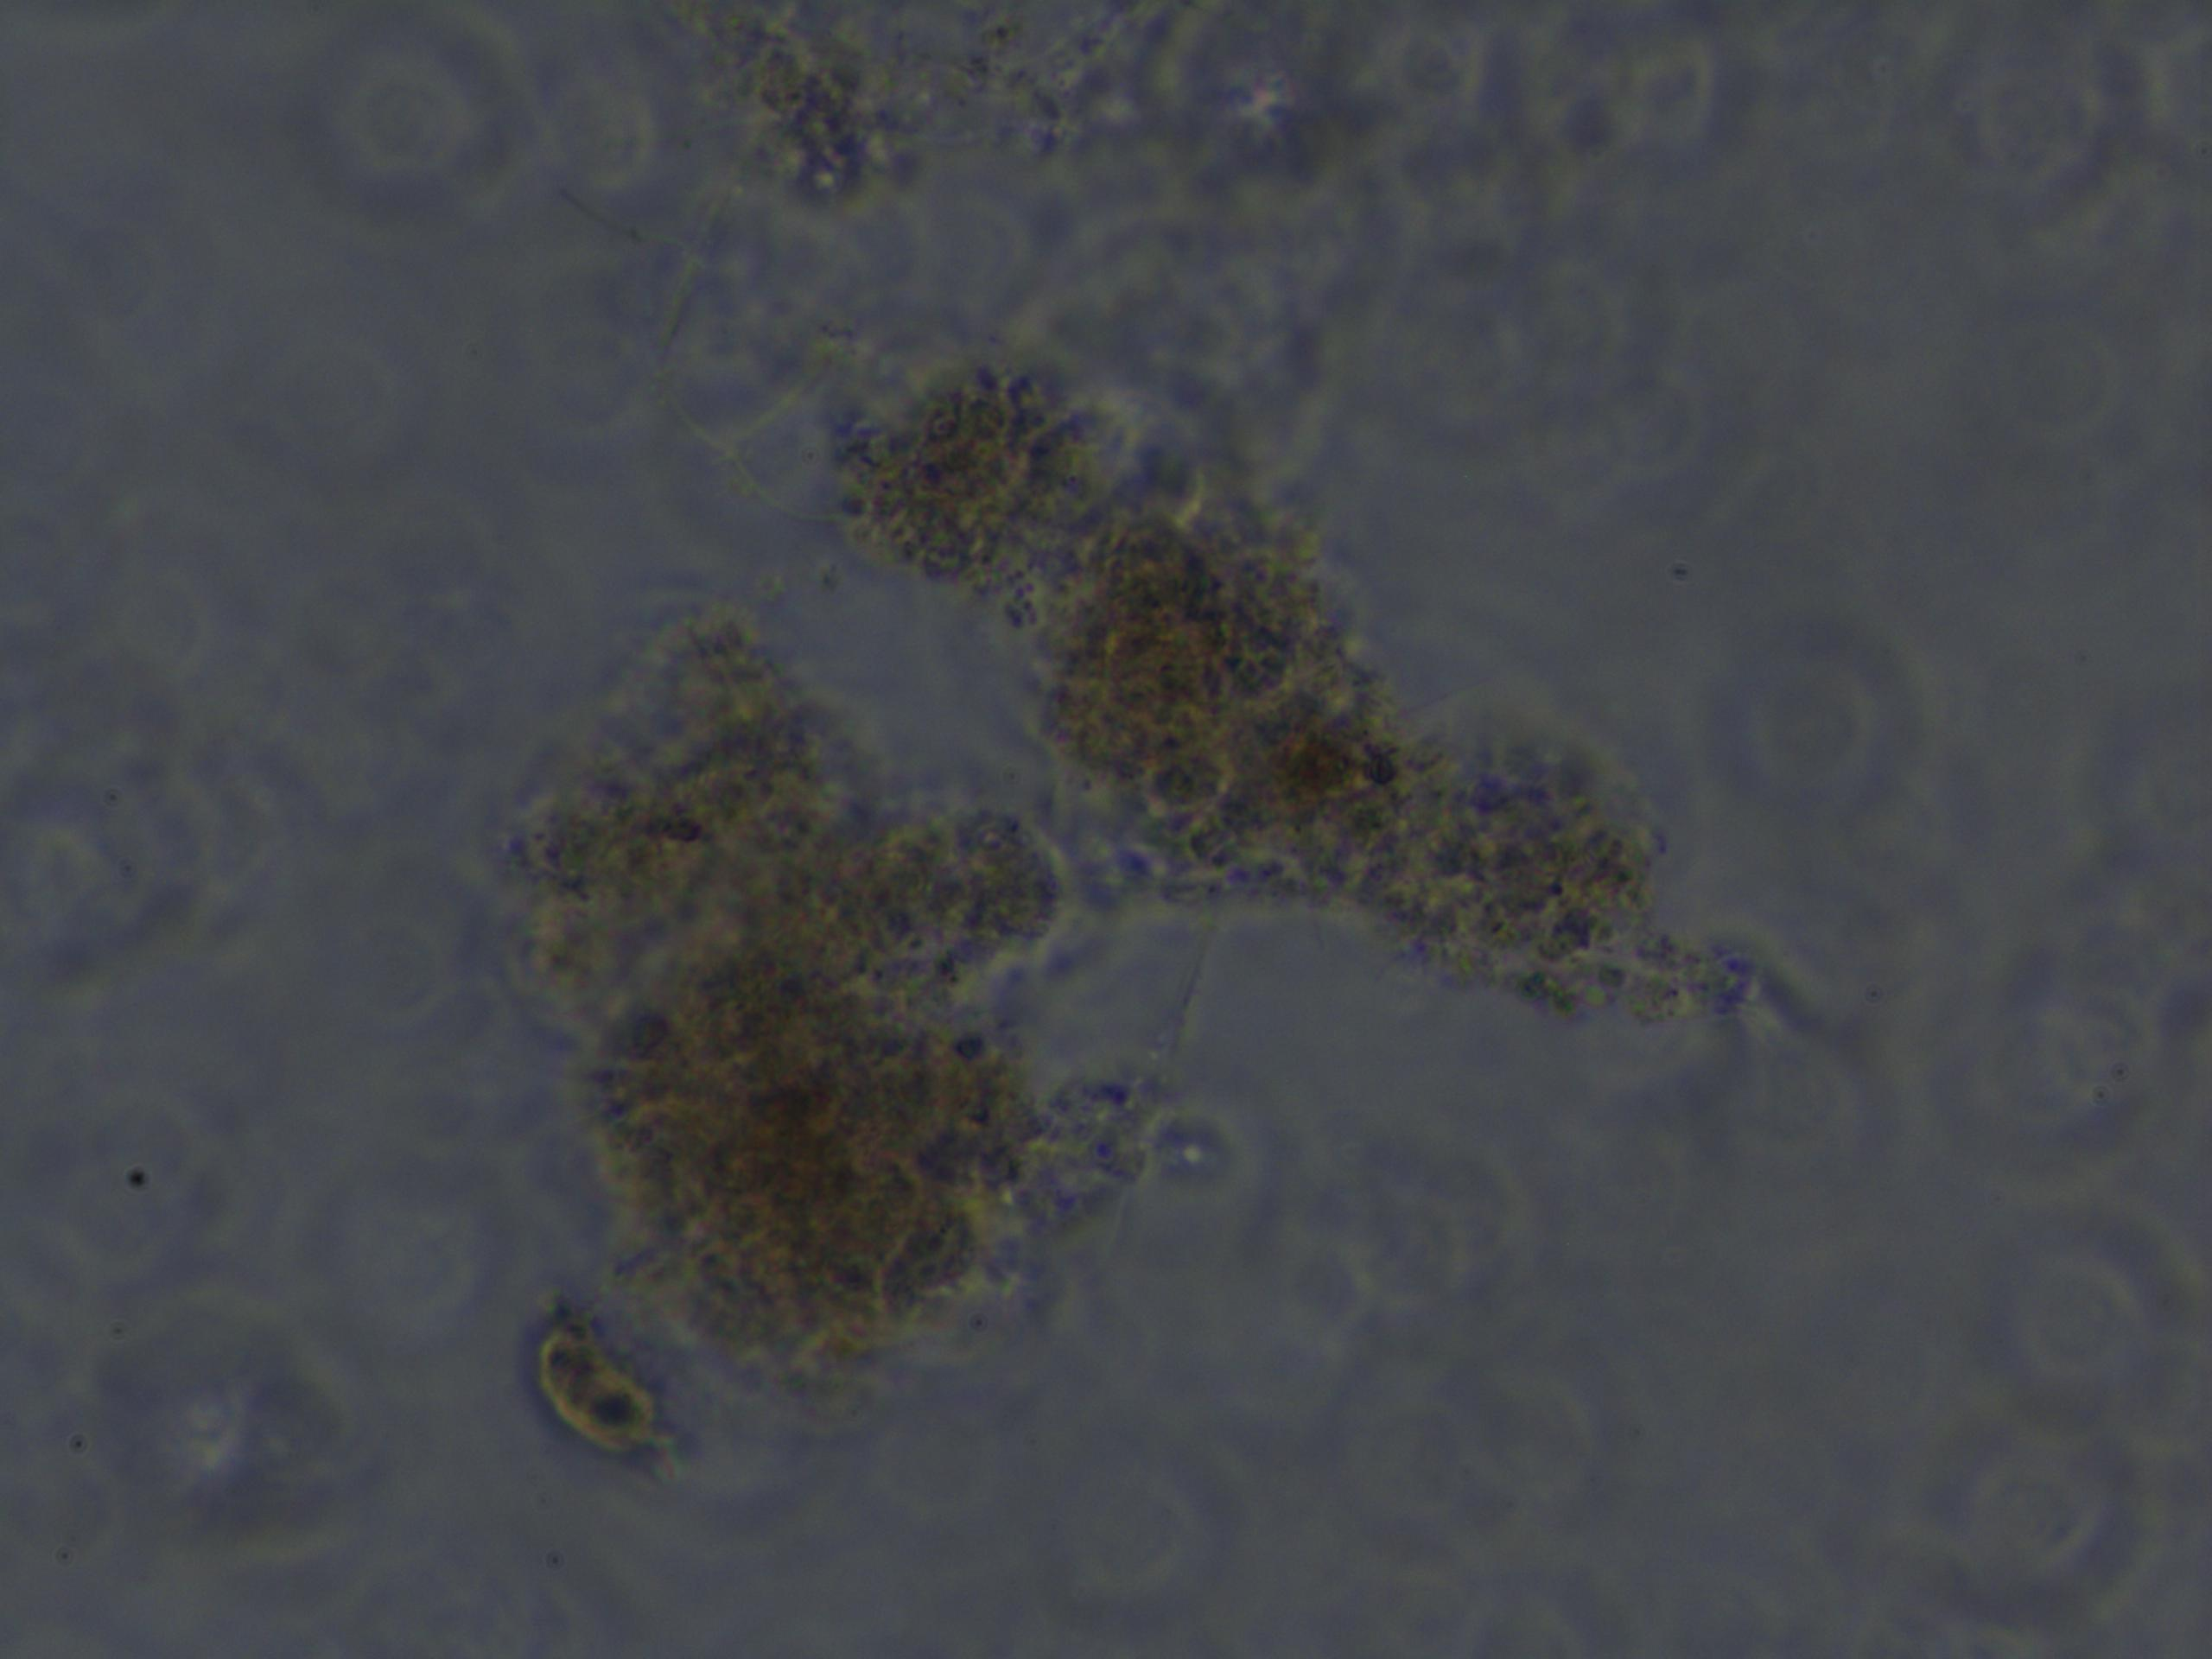open_floc: (526, 350, 1764, 1384)
